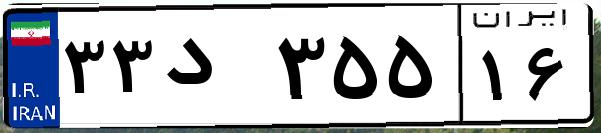1: (475, 38, 525, 113)
3: (270, 28, 330, 110), (57, 26, 110, 100), (110, 28, 158, 98)
5: (385, 28, 445, 110), (330, 28, 385, 110)
6: (525, 38, 570, 115)
د: (158, 20, 270, 120)
